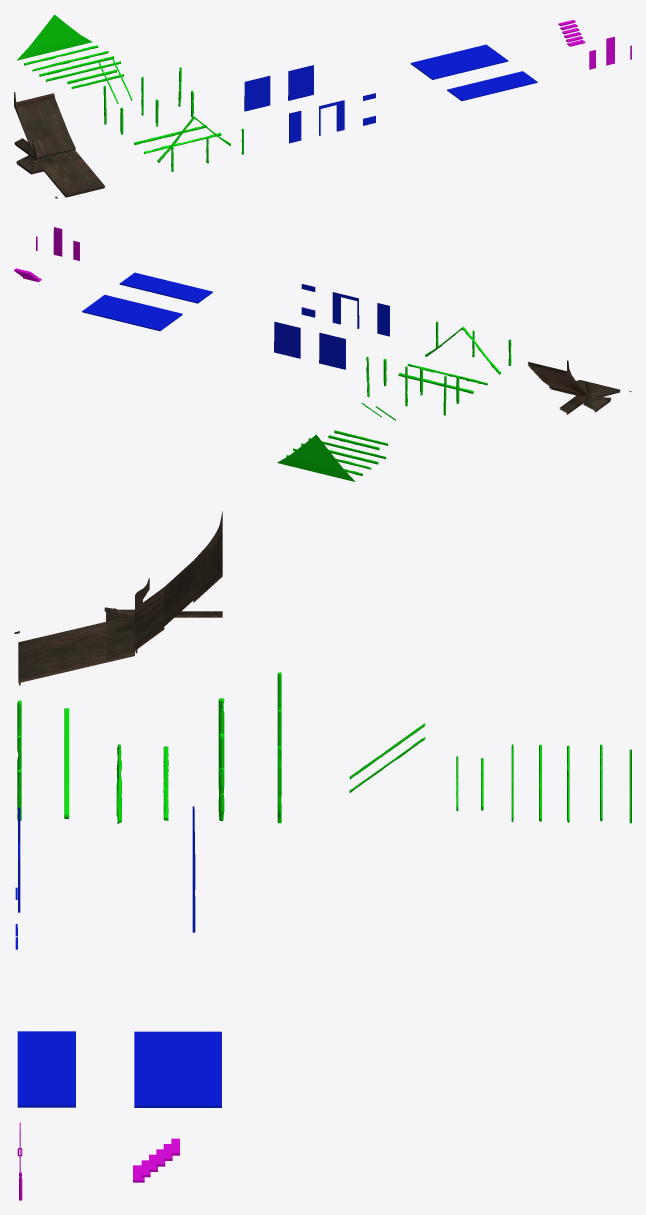
Rendered from assles (1).fbx.
3 views of the same model, one above another, from view 1: azimuth 30°, elevation 25°; view 2: azimuth 150°, elevation 25°; view 3: azimuth 270°, elevation 25° (orthographic). The views are drawn at different scales.
Visible parts, largest first — view 1: At_the_roof, wall_2x2_1, wall_2x2_2, folk2x3, folk2x3_2, folk2x3_3, Big_house6, Big_house5, Big_house4, Big_house, folk2x2, Big_house3 (+7 smaller); view 2: At_the_roof, wall_2x2_1, wall_2x2_2, folk2x3, folk2x3_2, folk2x3_3, folk2x2, folk2x2_3, folk2x2_2, Gate_wall, wall_1x2; view 3: folk2x3_3, folk2x3, folk2x3_2, folk2x2_3, folk2x2, folk2x2_2.
Boxes of the visible parts, x1,y1,x2,y2 form: At_the_roof: (17, 14, 92, 60); wall_2x2_1: (244, 76, 270, 111); wall_2x2_2: (288, 65, 313, 100); folk2x3: (410, 57, 457, 79); folk2x3_2: (436, 50, 482, 73); folk2x3_3: (461, 44, 508, 67); Big_house6: (14, 92, 41, 123); Big_house5: (34, 93, 60, 118); Big_house4: (21, 118, 48, 142); Big_house: (28, 137, 55, 159); folk2x2: (447, 83, 486, 101); Big_house3: (41, 113, 67, 136); At_the_roof: (277, 434, 354, 481); wall_2x2_1: (319, 333, 345, 369); wall_2x2_2: (274, 322, 300, 358); folk2x3: (134, 307, 182, 331); folk2x3_2: (108, 301, 156, 324); folk2x3_3: (82, 295, 130, 318); folk2x2: (172, 285, 212, 303); folk2x2_3: (119, 272, 160, 290); folk2x2_2: (145, 279, 186, 297); Gate_wall: (332, 292, 359, 328); wall_1x2: (377, 303, 389, 336); folk2x3_3: (134, 1081, 221, 1107); folk2x3: (134, 1031, 221, 1056); folk2x3_2: (134, 1056, 221, 1080); folk2x2_3: (17, 1080, 75, 1107); folk2x2: (17, 1031, 75, 1055); folk2x2_2: (17, 1056, 75, 1080).
Bounding box in the file's own units: 4587 × 517 × 2117.
